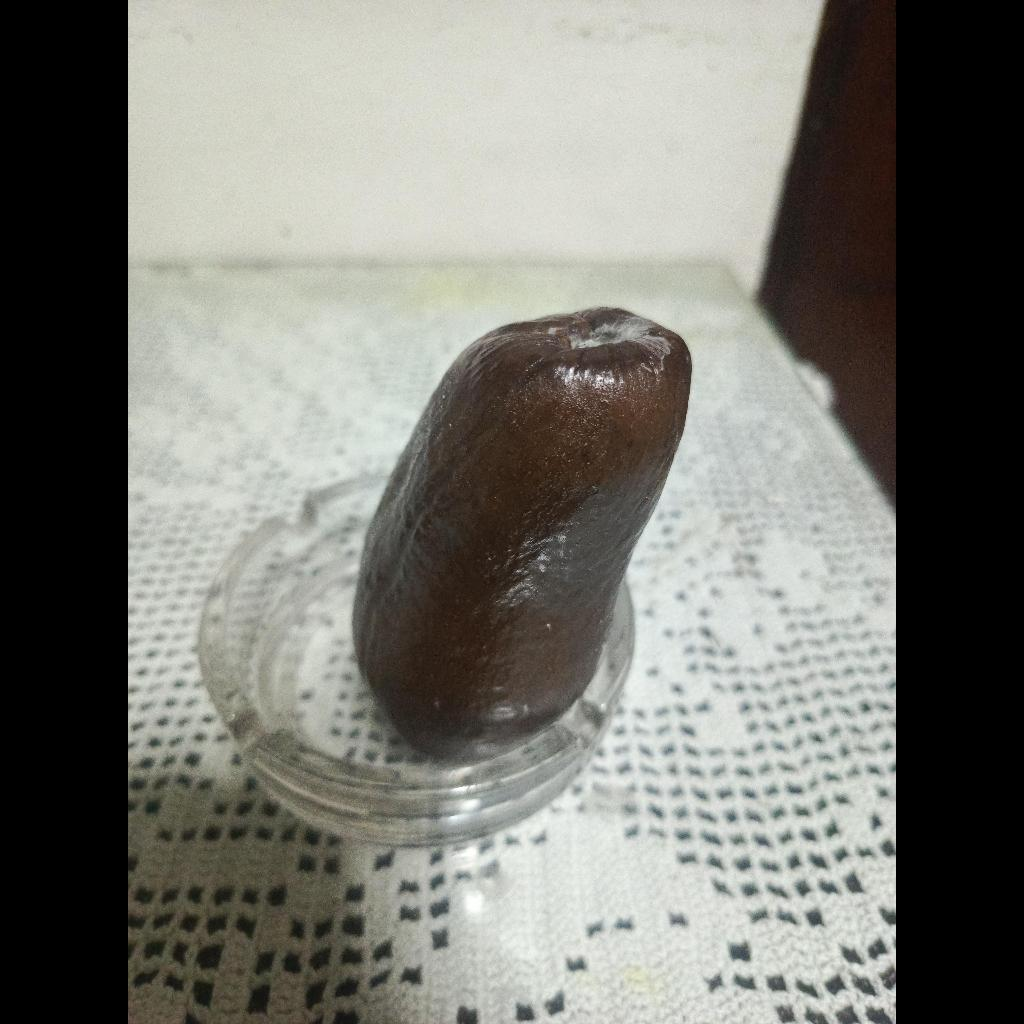stem end rot: (353, 307, 691, 759)
